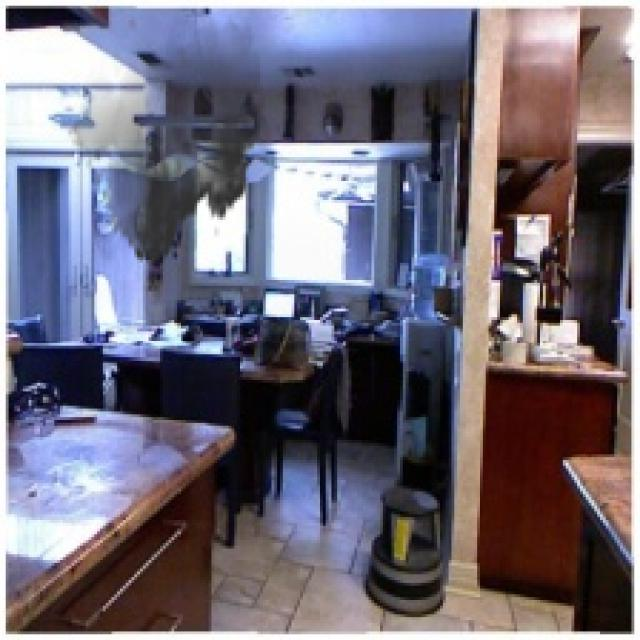smoke: (66, 3, 266, 274)
